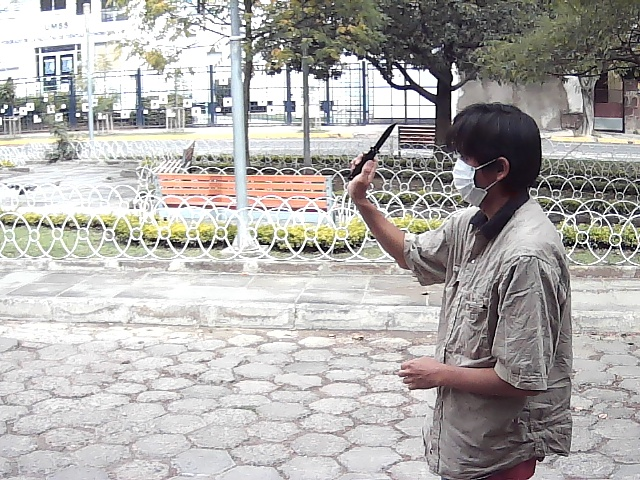cuchillo: (336, 115, 404, 199)
